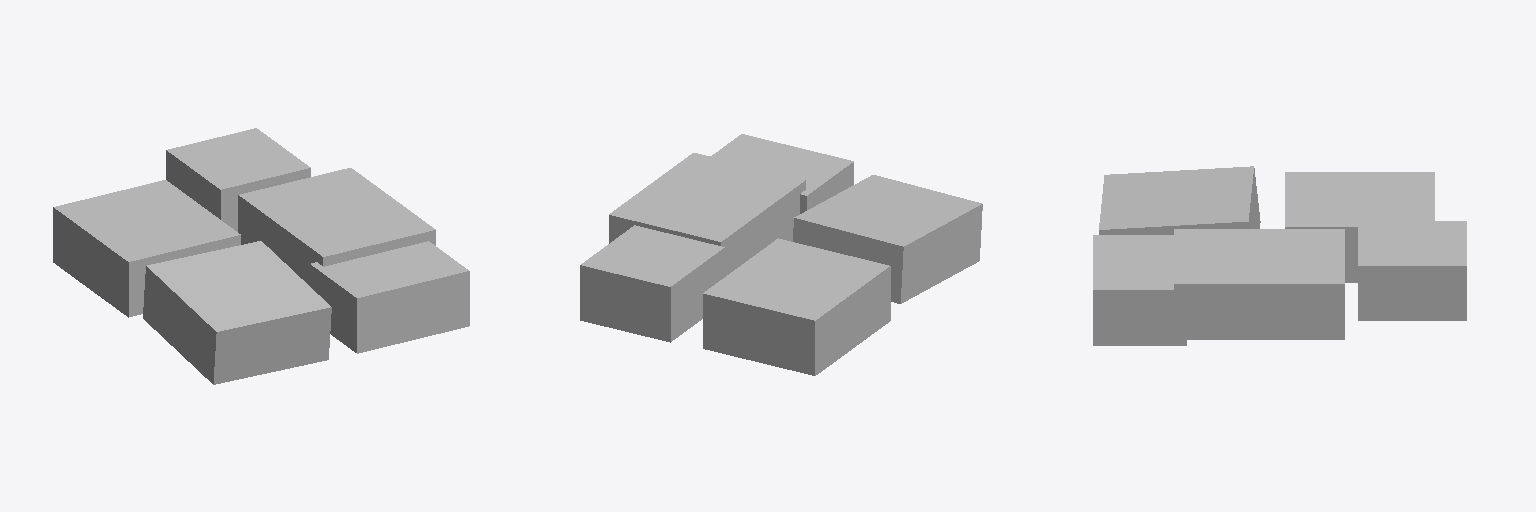
Rendered from road04.obj.
3 views of the same model, side by side, from view 1: azimuth 30°, elevation 25°; view 2: azimuth 150°, elevation 25°; view 3: azimuth 270°, elevation 25° (orthographic).
Parts seen in each view (by area): view 1: road06:polySurface5; view 2: road06:polySurface5; view 3: road06:polySurface5.
Part boxes in pixels (left/top/right/bottom): road06:polySurface5: left=53, top=128, right=469, bottom=384; road06:polySurface5: left=580, top=134, right=982, bottom=375; road06:polySurface5: left=1093, top=166, right=1466, bottom=345.
Bounding box in the file's own units: 12.48 × 3.42 × 15.93.